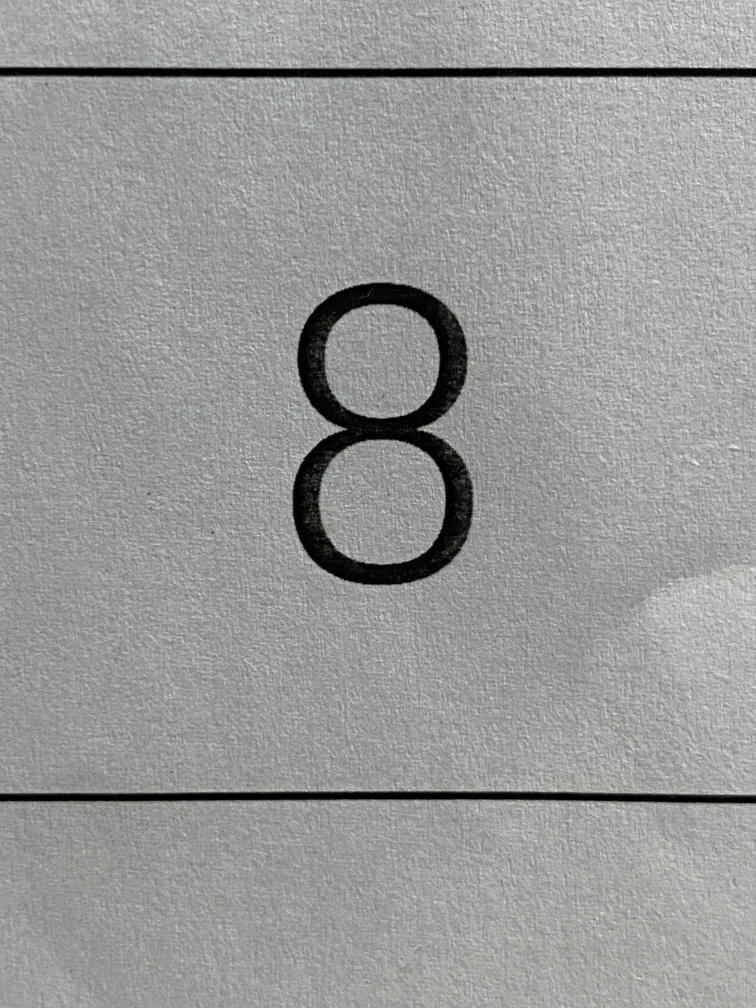eight: (234, 236, 540, 629)
